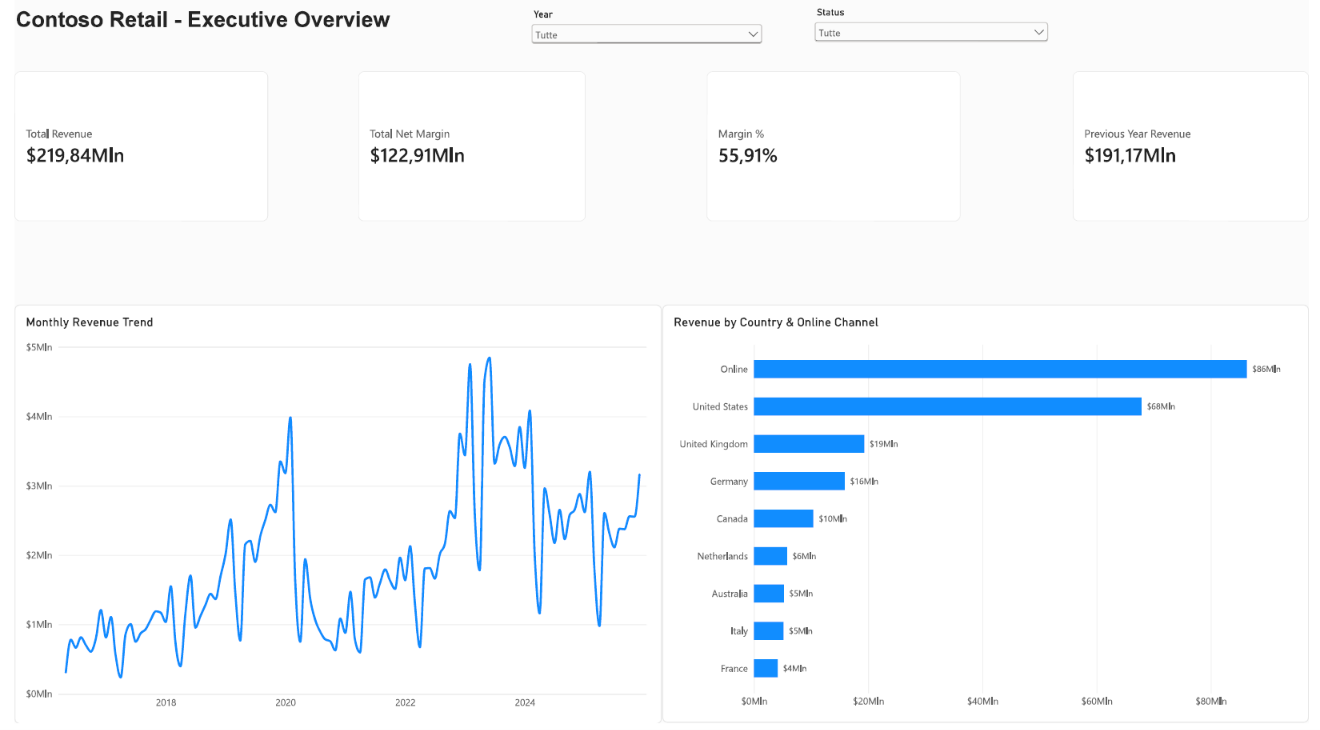

The dashboard page shown, as its layout file describes it:
{"tool":"powerbi","page":{"name":"Executive Overview","canvas":[1920,1080],"ordinal":0},"visuals":[{"type":"cardVisual","fields":{"Data":["sales.Total Revenue"]},"box":[0.2,113.6,375.5,222.7],"z":0},{"type":"cardVisual","fields":{"Data":["sales.Total Net Margin"]},"box":[510,113.6,336.8,222.7],"z":1},{"type":"cardVisual","fields":{"Data":["sales.Margin %"]},"box":[1027.2,113.6,375.5,222.7],"z":2},{"type":"cardVisual","fields":{"Data":["Calendar.Previous Year Revenue"]},"box":[1570.1,113.6,349.7,222.7],"z":3},{"type":"lineChart","title":"Monthly Revenue Trend","fields":{"Category":["Calendar.Date.Variation.Gerarchia data.Anno","Calendar.Date.Variation.Gerarchia data.Mese"],"Y":["sales.Total Revenue"]},"box":[0,460,960,622],"z":4},{"type":"clusteredBarChart","title":"Revenue by Country & Online Channel","fields":{"Category":["store.CountryName"],"Y":["sales.Total Revenue"]},"box":[960.7,460.1,958.9,620.2],"z":5},{"type":"textbox","box":[2.1,0,627.8,94.7],"z":6},{"type":"slicer","fields":{"Values":["Calendar.Year"]},"box":[761.6,20.6,352,222.3],"z":7},{"type":"slicer","fields":{"Values":["store.Status"]},"box":[1181.6,18.4,356.1,150.3],"z":8}]}

Visuals, with their boxes in screenshot pixels (x1, y1, x2, y2), scaled from the page's 1920x1080 canvas onto the 1320x730 screenshot:
cardVisual - sales.Total Revenue: [0, 77, 258, 227]
cardVisual - sales.Total Net Margin: [351, 77, 582, 227]
cardVisual - sales.Margin %: [706, 77, 964, 227]
cardVisual - Calendar.Previous Year Revenue: [1079, 77, 1319, 227]
"Monthly Revenue Trend" lineChart: [0, 311, 660, 729]
"Revenue by Country & Online Channel" clusteredBarChart: [660, 311, 1319, 729]
textbox: [1, 0, 433, 64]
slicer - Calendar.Year: [524, 14, 766, 164]
slicer - store.Status: [812, 12, 1057, 114]
